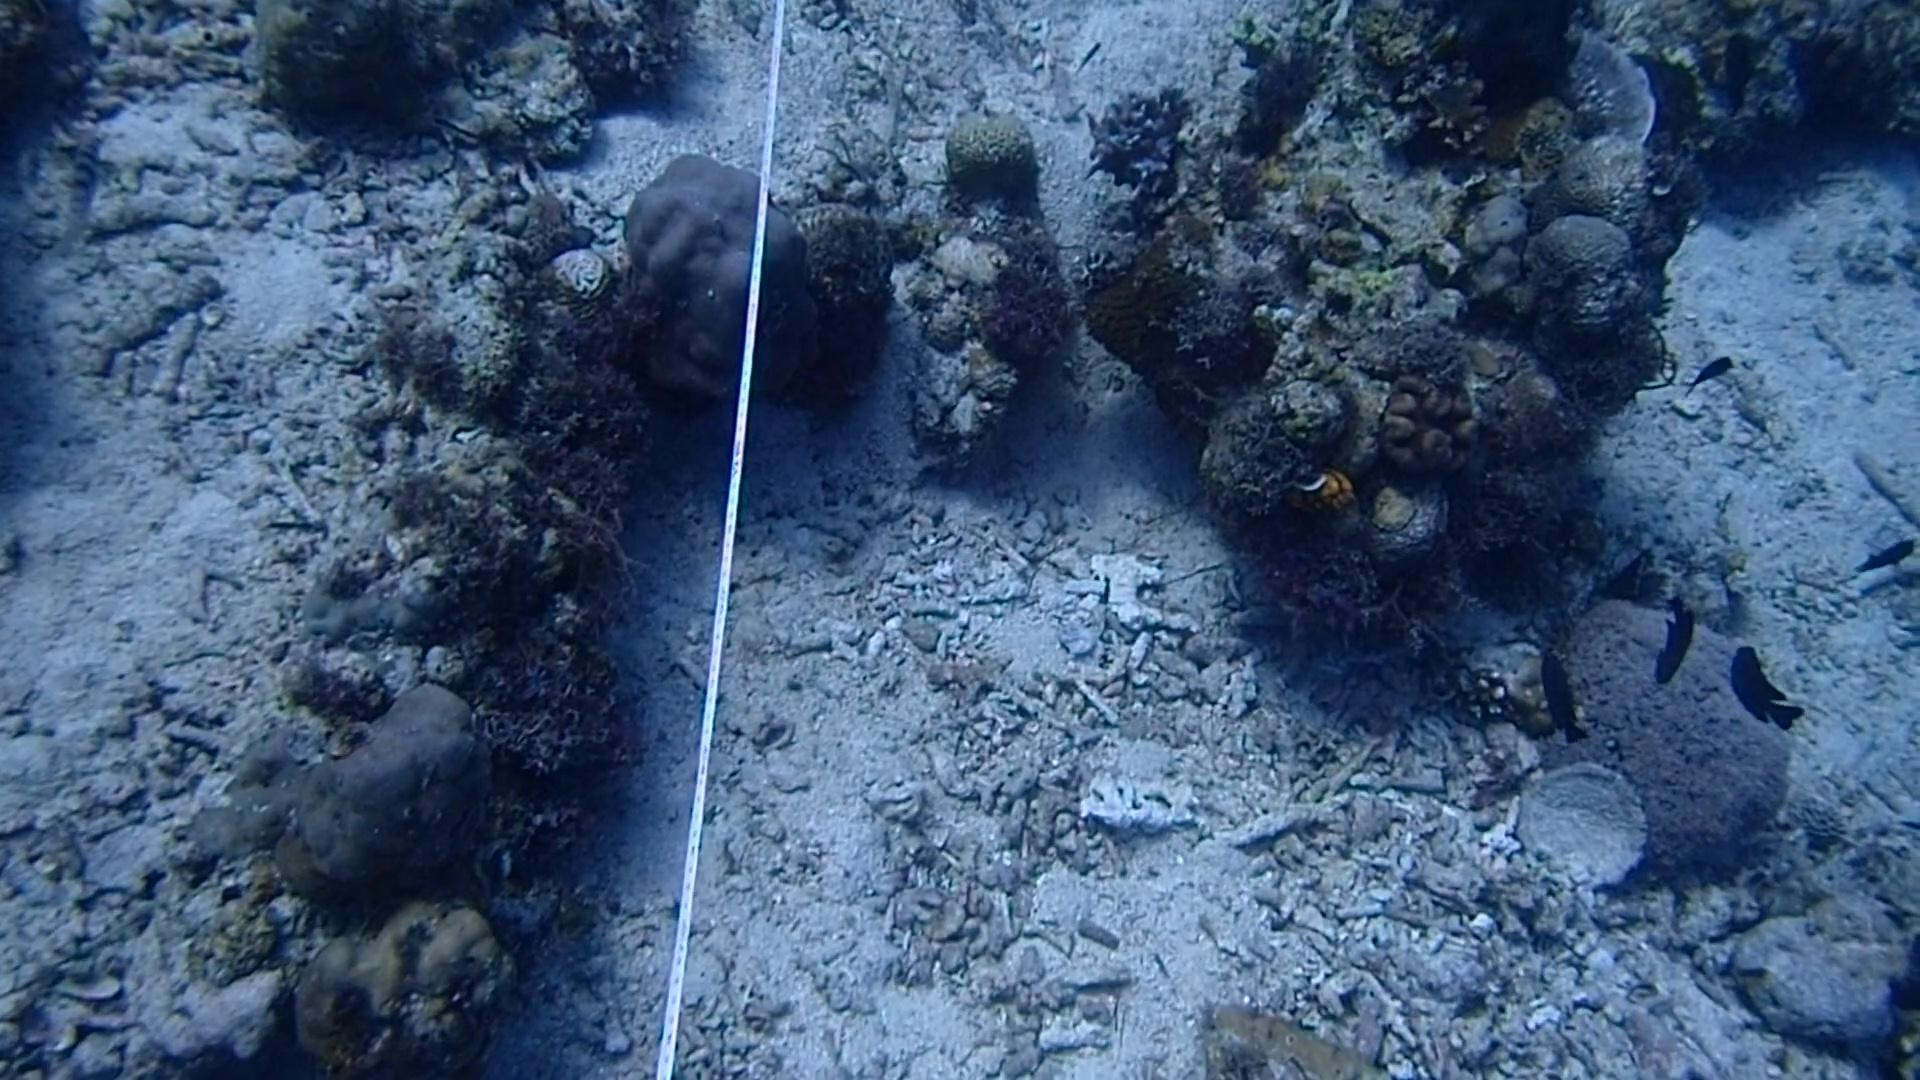Dark Fish: (1724, 629, 1803, 737), (1520, 640, 1593, 744), (1640, 587, 1714, 687), (1714, 28, 1768, 119), (1846, 522, 1920, 588), (1676, 343, 1738, 404)
Light Fish w Back Stripes: (24, 124, 112, 261)
